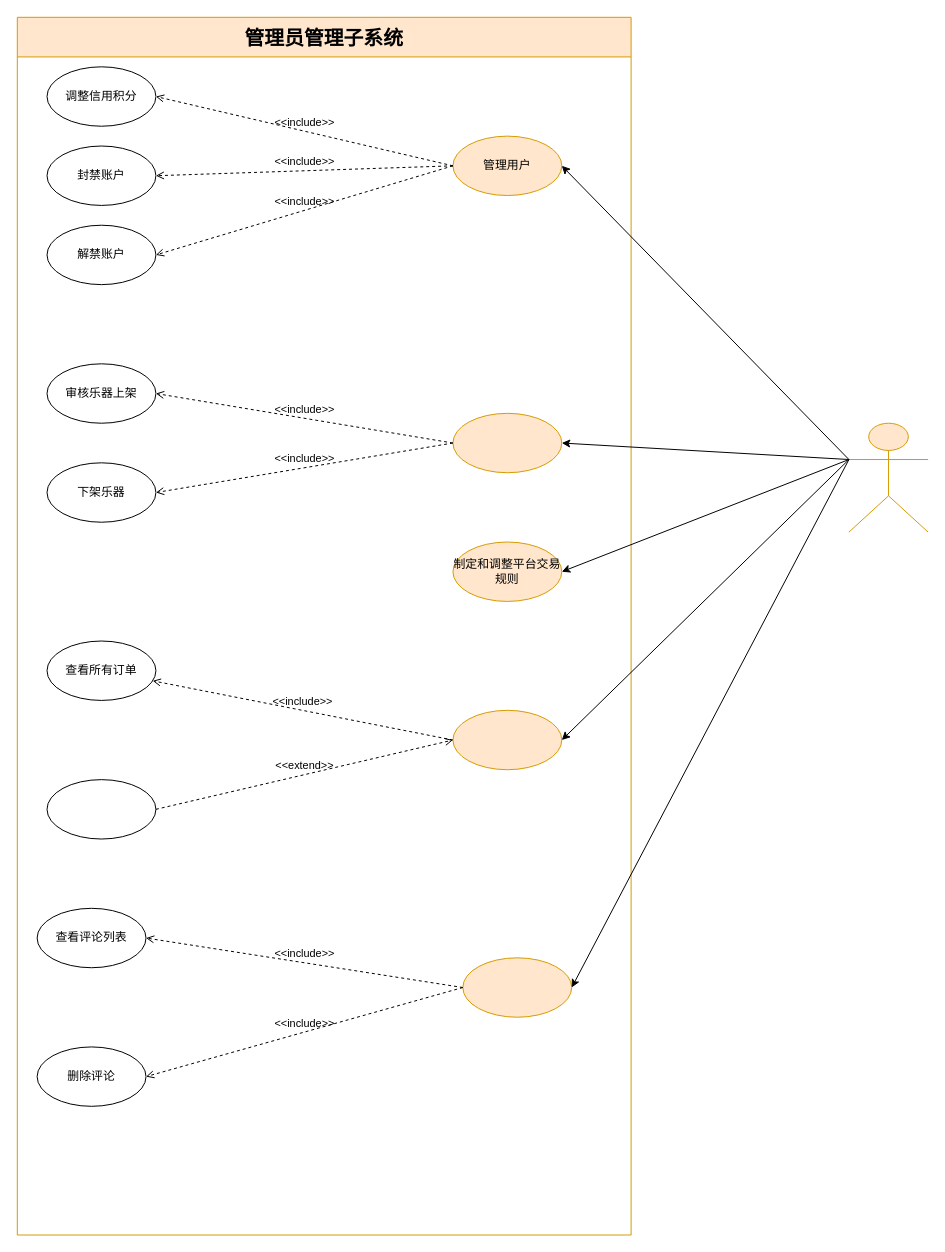
This 945x1252 diagram has some shape labels left out. The shapes that lost their labels are listed below. From the top down, each one's centre as x and y in pixels, then its label:
At pixel 507 442: "管理商品".
At pixel 888 477: "管理员".
At pixel 507 739: "管理订单".
At pixel 101 809: "处理异常状态订单".
At pixel 517 987: "管理评论".
